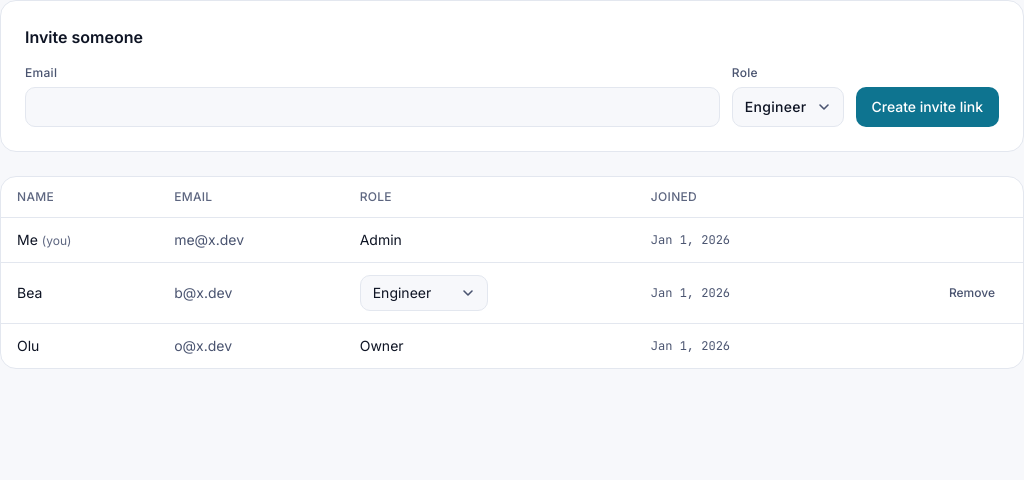
MembersTable › admins invite and get a one-time link; they can't edit themselves
Expected: the dropdown named "Role for Bea" is shown, [360, 275, 488, 311]
Type "new@x.dev" into the field labelled "Email" at (372, 107), box [25, 87, 720, 127]
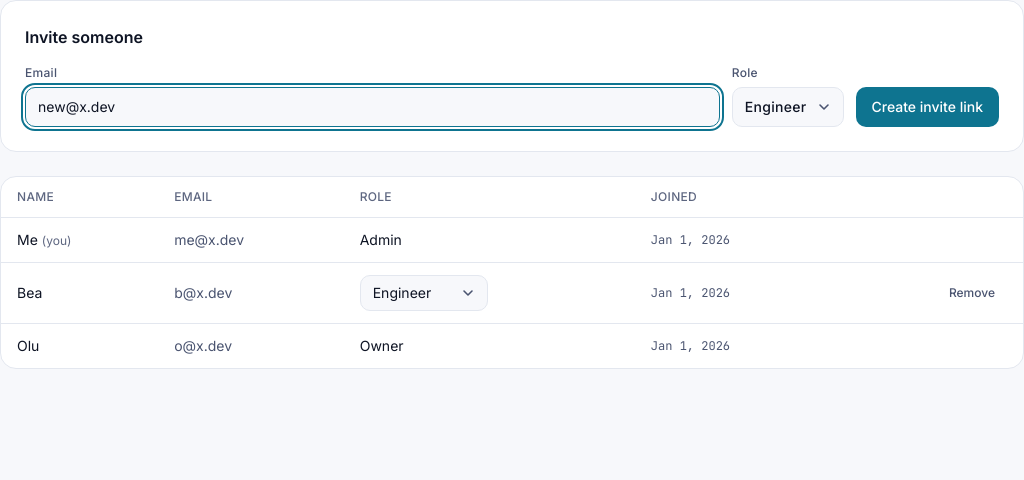
Click the button "Create invite link" at (927, 107), box [856, 87, 999, 127]
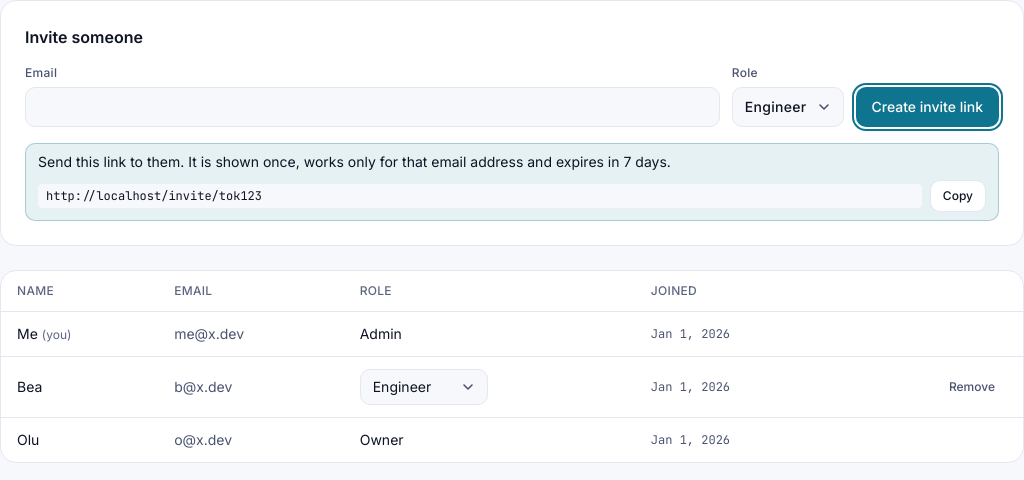
Result: the text "http://localhost/invite/tok123" is shown at [38, 184, 922, 208]
Result: the text "shown once" is shown at [38, 153, 671, 170]
